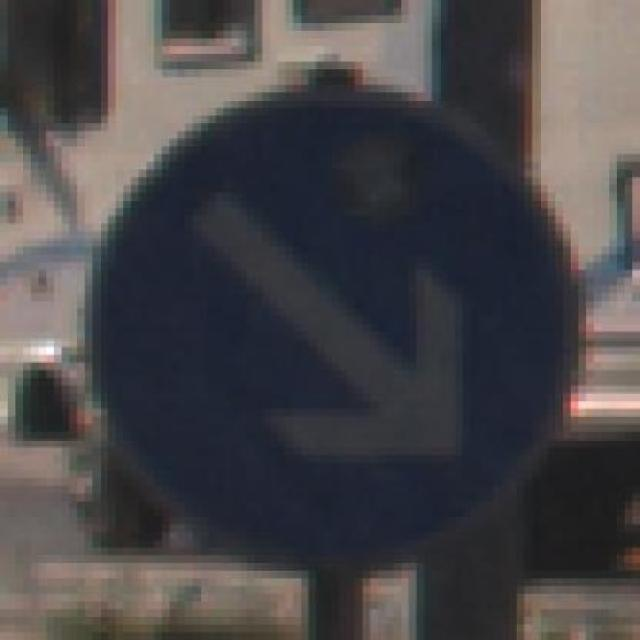Keep-Right: (54, 46, 594, 579)
